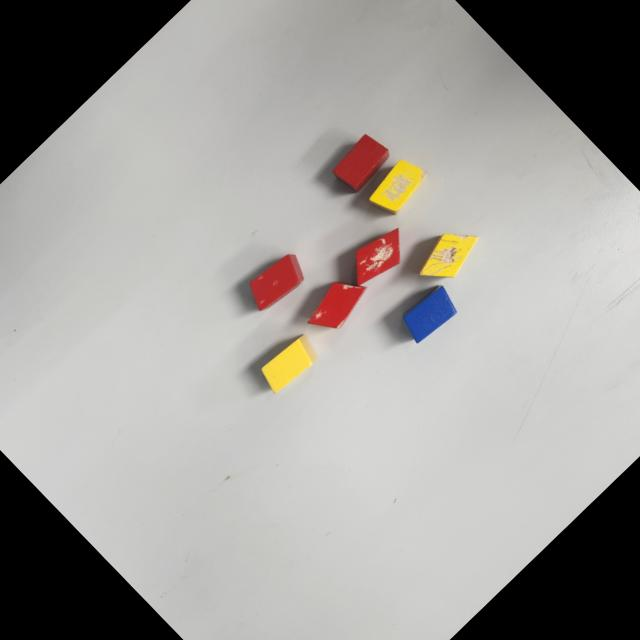blue: (395, 280, 463, 348)
broken: (340, 218, 418, 295), (410, 218, 487, 294), (300, 267, 376, 342), (241, 246, 313, 318), (364, 154, 433, 222)
red: (328, 129, 396, 197)
yellow: (256, 332, 322, 397)
